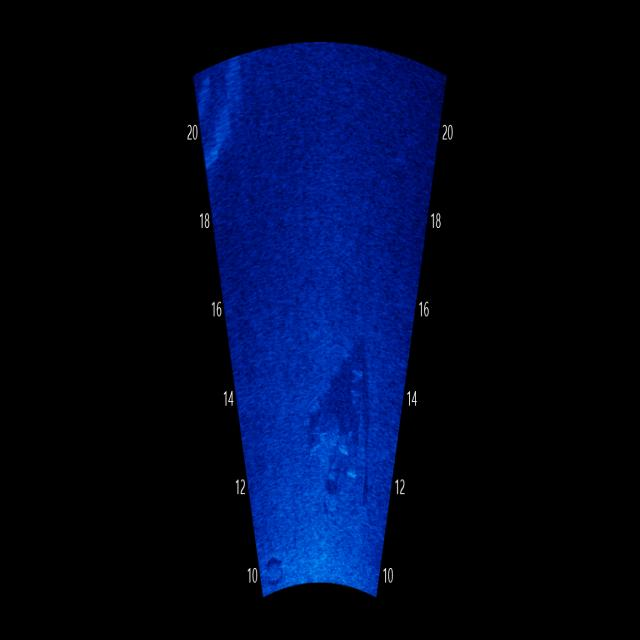triangle: (292, 312, 380, 550)
